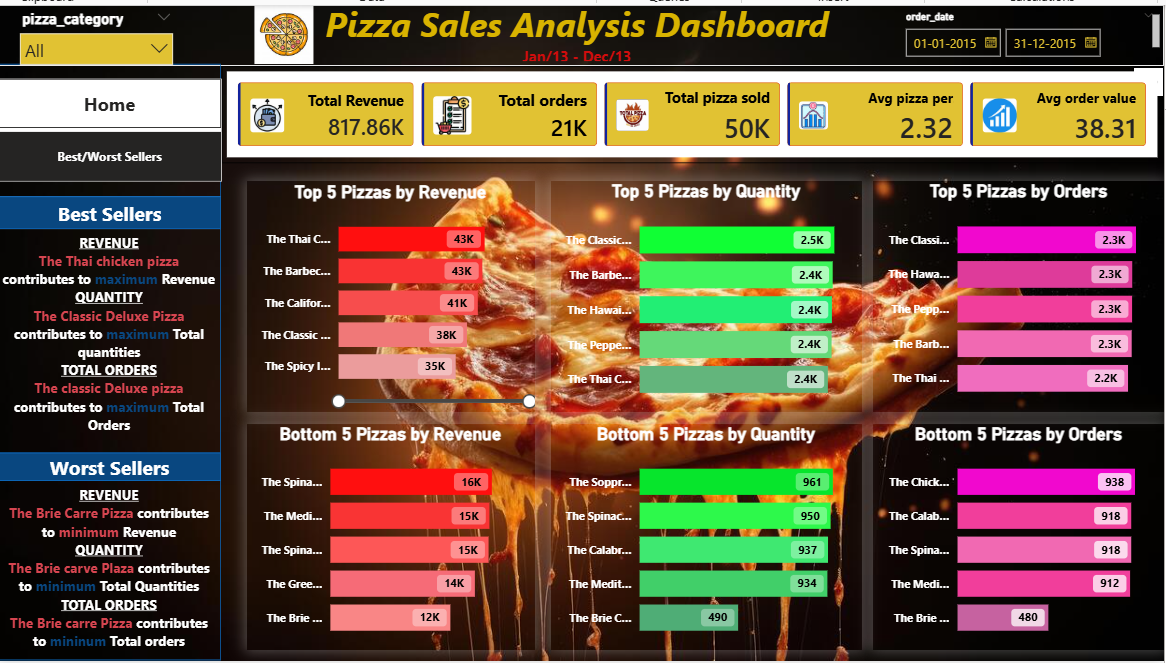

The dashboard page shown, as its layout file describes it:
{"tool":"powerbi","page":{"name":"Best/Worst Sellers","canvas":[1280,720],"ordinal":1},"visuals":[{"type":"textbox","box":[0,0,1280,66.7],"z":0},{"type":"cardVisual","fields":{"Data":["pizza_sales.Total Revenu","pizza_sales.total oreder","pizza_sales.total pizza sold","pizza_sales.Avg pizza per order","pizza_sales.Avg order value"]},"box":[245,66.7,1035,106.7],"z":1000},{"type":"shape","box":[0,65,245,655],"z":2000},{"type":"image","box":[221.7,0,183.3,65],"z":3000},{"type":"slicer","fields":{"Values":["pizza_sales.pizza_category"]},"box":[13.3,0,188.3,66.7],"z":4000},{"type":"slicer","fields":{"Values":["pizza_sales.order_date"]},"box":[983.3,1.7,296.7,65],"z":5000},{"type":"shape","box":[0,210,245,36.2],"z":6000},{"type":"shape","box":[0,491.2,245,31.2],"z":7000},{"type":"textbox","box":[0,522.5,243.8,197.5],"z":8000},{"type":"textbox","box":[0,246.2,243.8,233.8],"z":9000},{"type":"barChart","title":"Top 5 Pizzas by Revenue","fields":{"Category":["pizza_sales.pizza_name"],"Y":["pizza_sales.Total Revenue"]},"box":[273.1,193.5,315.6,252.5],"z":10000},{"type":"barChart","title":"Top 5 Pizzas by Quantity","fields":{"Category":["pizza_sales.pizza_name"],"Y":["Sum(pizza_sales.quantity)"]},"box":[606.5,193.5,341.7,253.9],"z":11000},{"type":"barChart","title":"Bottom 5 Pizzas by Quantity","fields":{"Category":["pizza_sales.pizza_name"],"Y":["Sum(pizza_sales.quantity)"]},"box":[606.5,459.7,341.7,248.4],"z":12000},{"type":"barChart","title":"Bottom 5 Pizzas by Revenue","fields":{"Category":["pizza_sales.pizza_name"],"Y":["pizza_sales.Total Revenue"]},"box":[273.1,459.7,315.6,248.4],"z":13000},{"type":"barChart","title":"Top 5 Pizzas by Orders","fields":{"Category":["pizza_sales.pizza_name"],"Y":["pizza_sales.Total orders"]},"box":[960.6,193.5,319.7,252.5],"z":14000},{"type":"barChart","title":"Bottom 5 Pizzas by Orders ","fields":{"Category":["pizza_sales.pizza_name"],"Y":["pizza_sales.Total orders"]},"box":[960.6,459.7,319.7,248.4],"z":15000},{"type":"pageNavigator","box":[0,81,245.6,112.5],"z":16000}]}

Visuals, with their boxes on the page's 1280x720 design canvas (x1, y1, x2, y2). These are canvas units, not pixel positions in the 1166x663 screenshot, which may show the page scaled, cropped or inside an application window:
textbox: (0, 0, 1280, 67)
cardVisual - pizza_sales.Total Revenu x pizza_sales.total oreder: (245, 67, 1280, 173)
shape: (0, 65, 245, 720)
image: (222, 0, 405, 65)
slicer - pizza_sales.pizza_category: (13, 0, 202, 67)
slicer - pizza_sales.order_date: (983, 2, 1280, 67)
shape: (0, 210, 245, 246)
shape: (0, 491, 245, 522)
textbox: (0, 522, 244, 720)
textbox: (0, 246, 244, 480)
"Top 5 Pizzas by Revenue" barChart: (273, 194, 589, 446)
"Top 5 Pizzas by Quantity" barChart: (606, 194, 948, 447)
"Bottom 5 Pizzas by Quantity" barChart: (606, 460, 948, 708)
"Bottom 5 Pizzas by Revenue" barChart: (273, 460, 589, 708)
"Top 5 Pizzas by Orders" barChart: (961, 194, 1280, 446)
"Bottom 5 Pizzas by Orders " barChart: (961, 460, 1280, 708)
pageNavigator: (0, 81, 246, 194)
